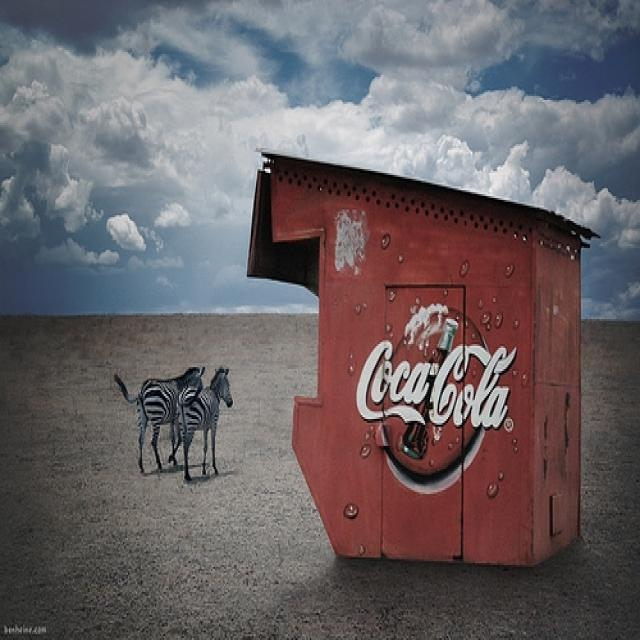cocacola: (352, 336, 528, 436)
